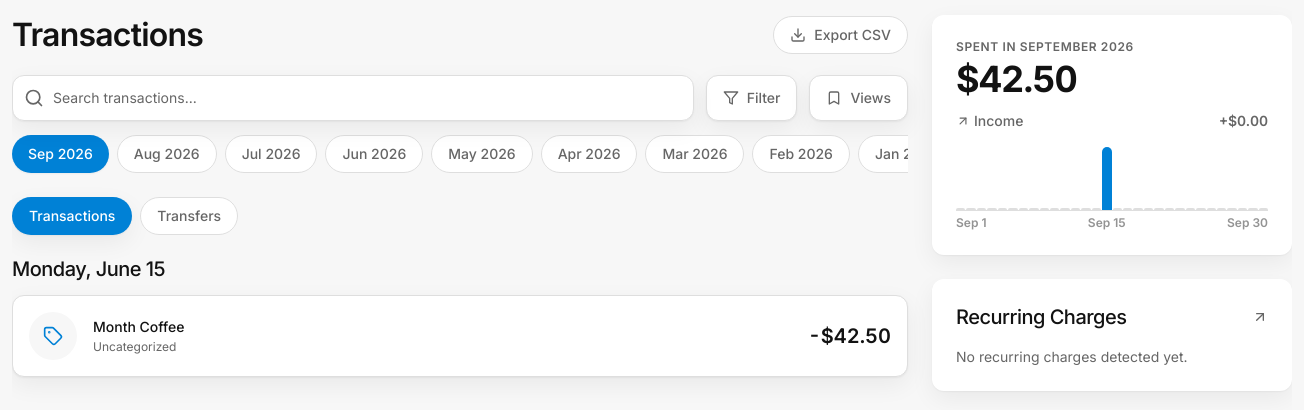
Test: an active query swaps the list to search results, and clearing restores the month
The width and height of the screenshot is (1304, 410).
Expected: the text "Month Coffee" is shown, [93, 318, 184, 335]
Type "hit" into the search field labelled "Search transactions" at coordinates (353, 98), box [12, 75, 694, 121]
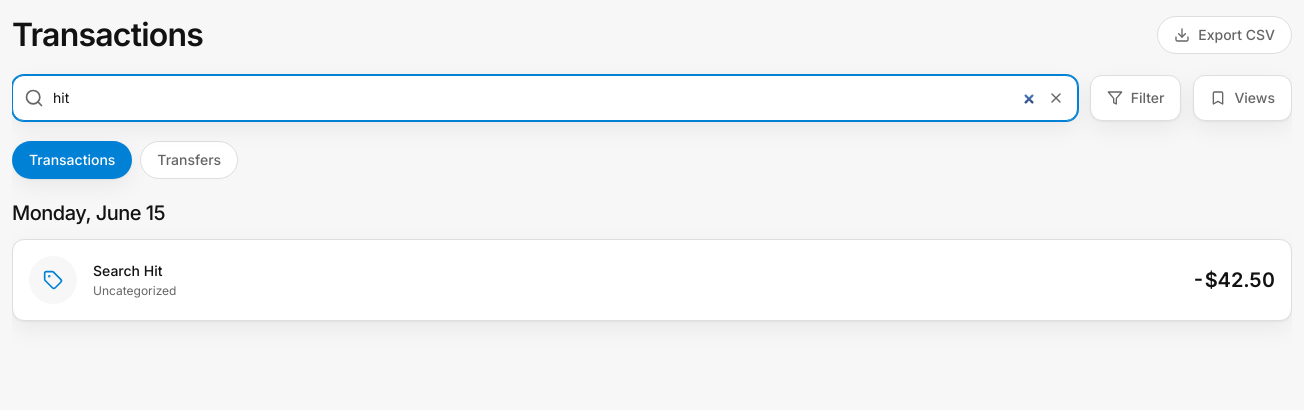
Expected: the text "Search Hit" is shown, [93, 262, 162, 279]
Expected: the button "Month Coffee" is gone
Click the button named "Clear search" at coordinates (1056, 98), box [1046, 88, 1066, 108]
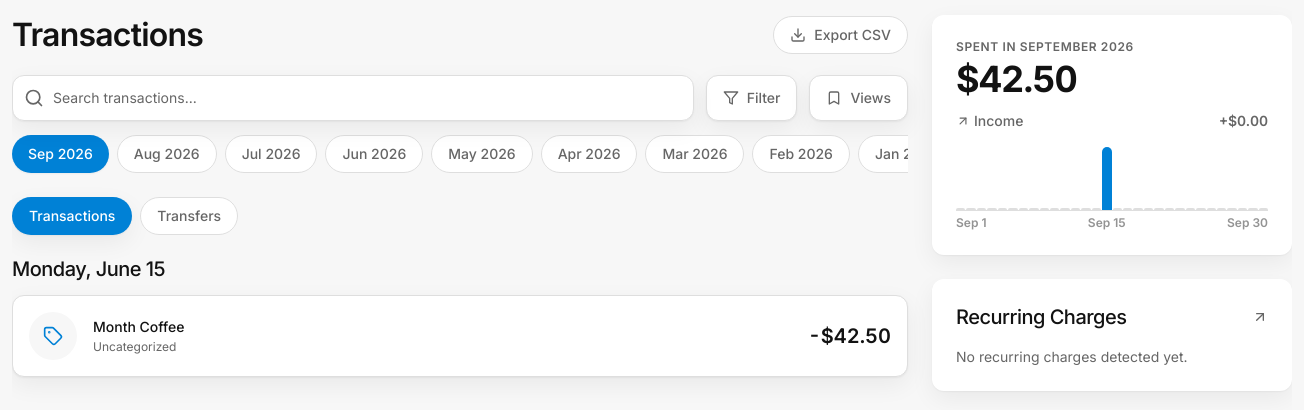
Expected: the text "Month Coffee" is shown, [93, 318, 184, 335]
Expected: the button "Search Hit" is gone
